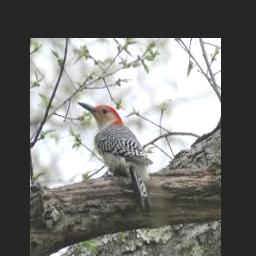Woodpecker: (77, 101, 152, 210)
